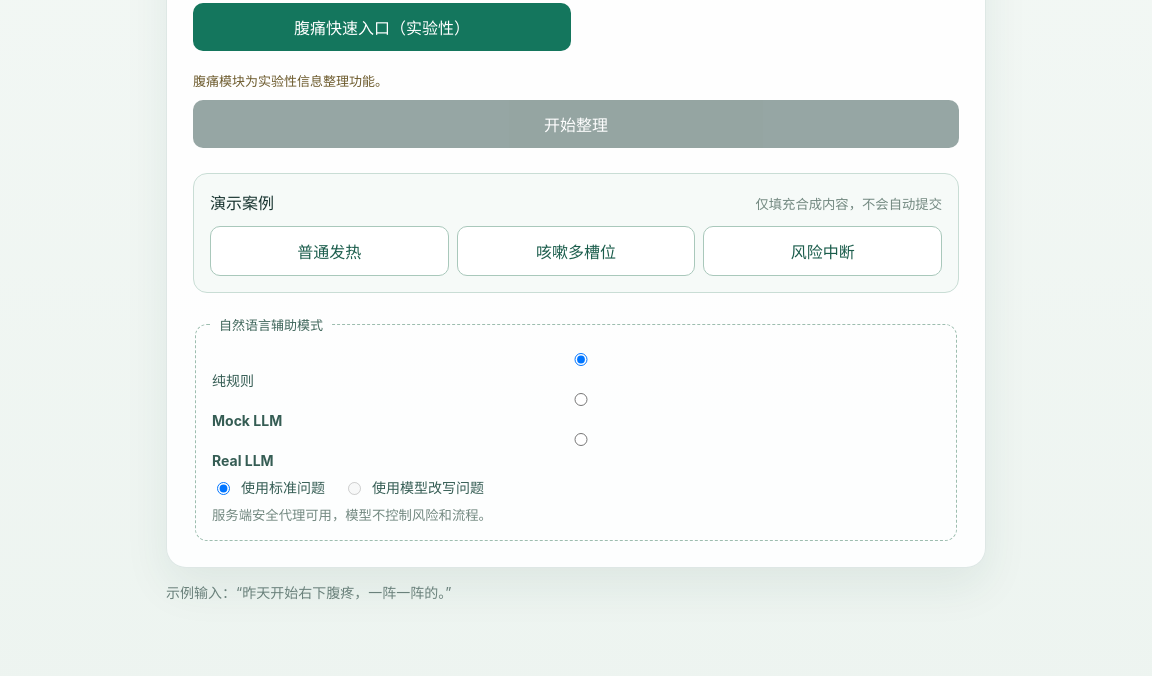
Test: 开发模式Mock适配器页面 › 服务端启用后Real模式可通过受控网关接受合法自由文本
The image size is (1152, 676).
(page scrolled)
Click the radio button labelled "Real LLM".
click(581, 440)  # box [217,433,945,446]
(page scrolled)
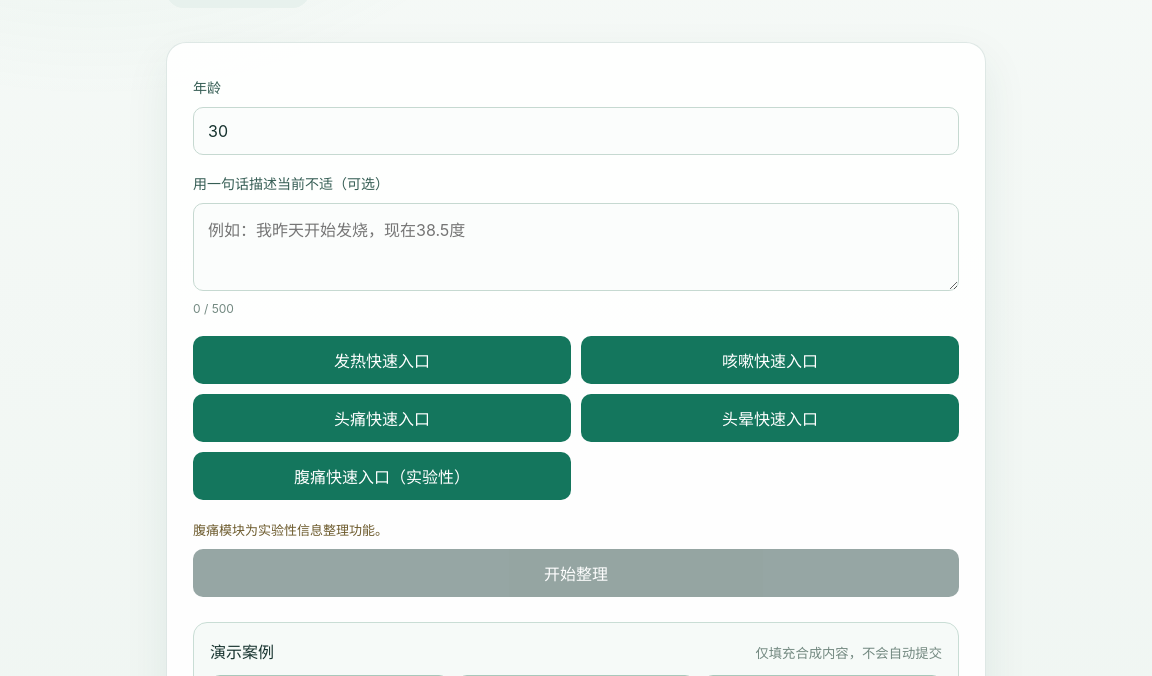
Click the button "发热快速入口".
click(382, 360)  # box [193,336,571,384]
(page scrolled)
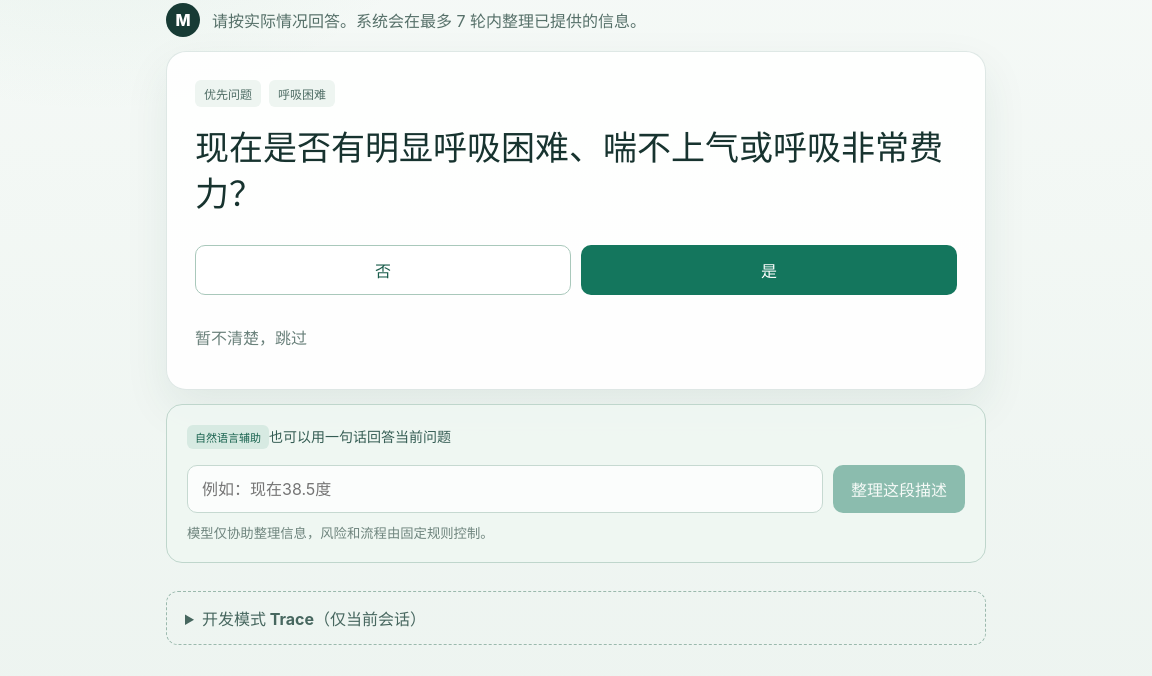
Type "我昨天开始发烧" into the field labelled "也可以用一句话回答当前问题".
click(505, 489); type("我昨天开始发烧")  # box [187,465,823,513]
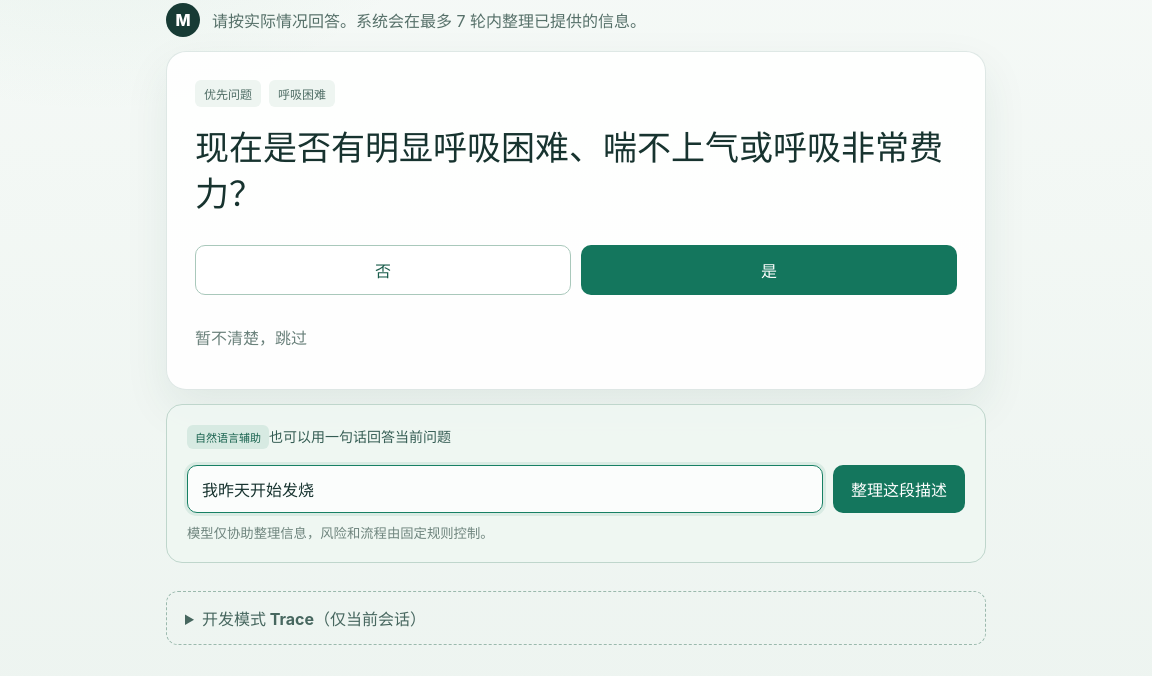
Click the button "整理这段描述".
click(899, 489)  # box [833,465,965,513]
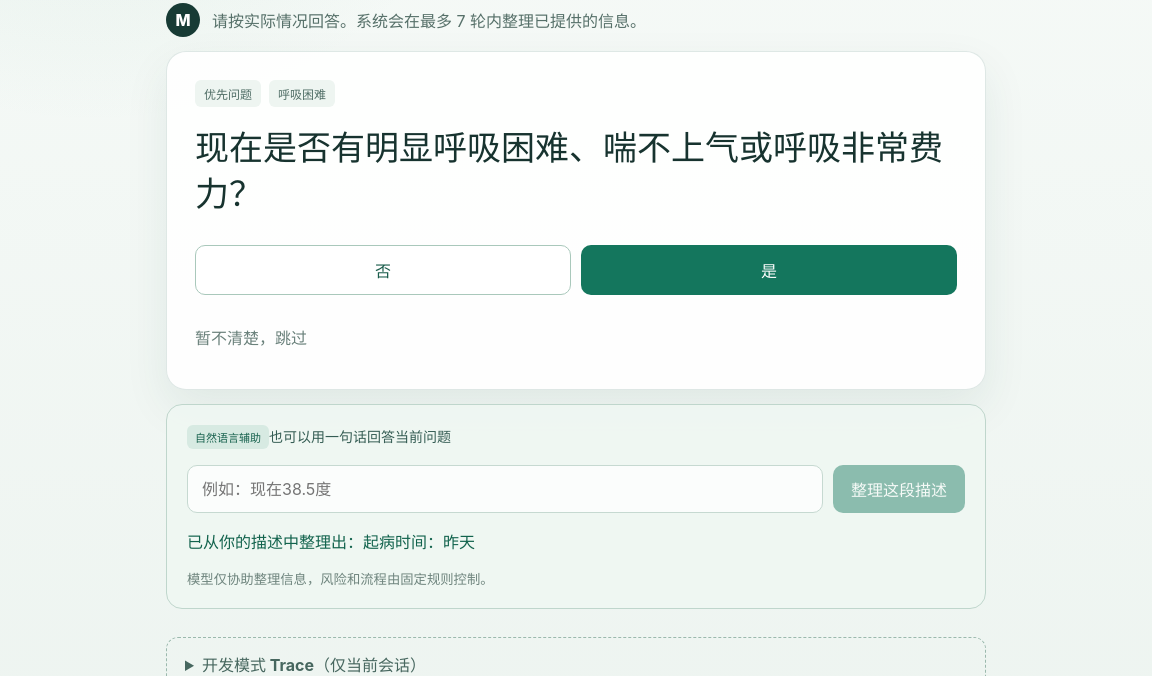
Check: the message shows "起病时间：昨天", box [187,532,475,552]
